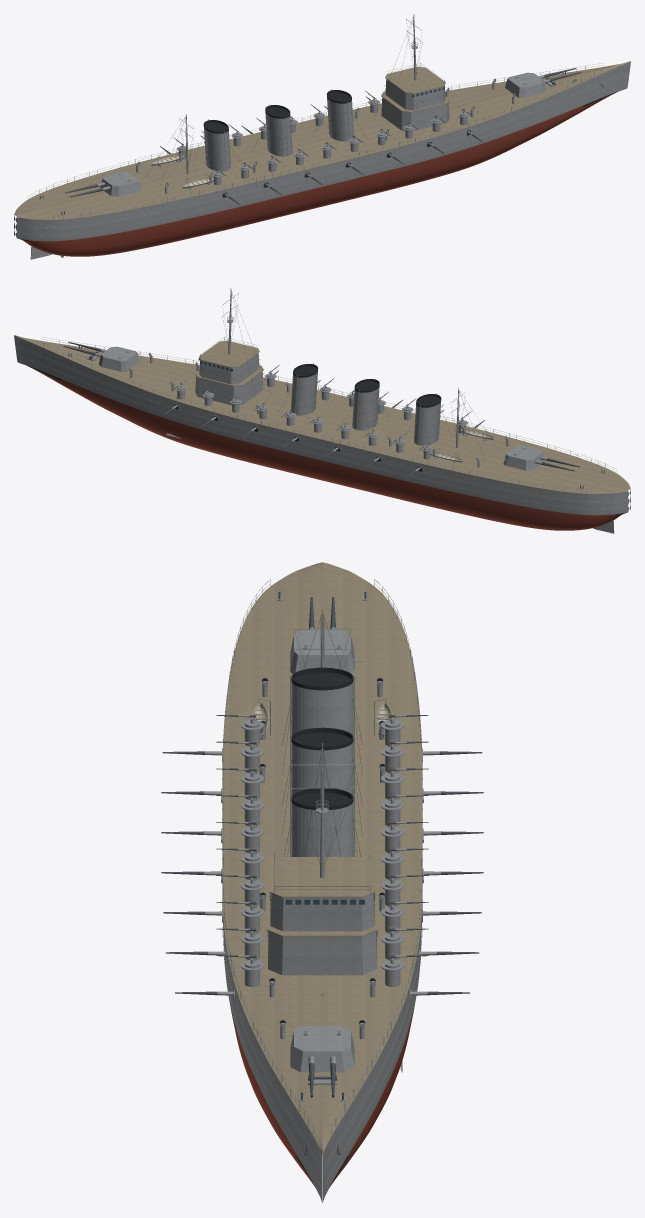
The model's file is deutschland_bb.glb.
3 renders of one model, top to bottom at view 1: azimuth 30°, elevation 25°; view 2: azimuth 150°, elevation 25°; view 3: azimuth 270°, elevation 25°, orthographic. The views are drawn at different scales.
Visible parts, largest first — view 1: Deutschland class; view 2: Deutschland class; view 3: Deutschland class.
Boxes of the visible parts, bbox=[...] form: Deutschland class: bbox=[14, 14, 630, 259]; Deutschland class: bbox=[14, 288, 630, 533]; Deutschland class: bbox=[161, 562, 483, 1202].
Size of the model in its own units: 156 by 37.31 by 35.36.
8 materials, 2 textured.
